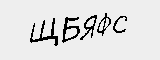Б: (61, 14, 83, 44)
С: (112, 14, 128, 35)
Ф: (97, 10, 112, 37)
Щ: (28, 15, 59, 50)
Я: (81, 12, 99, 41)
